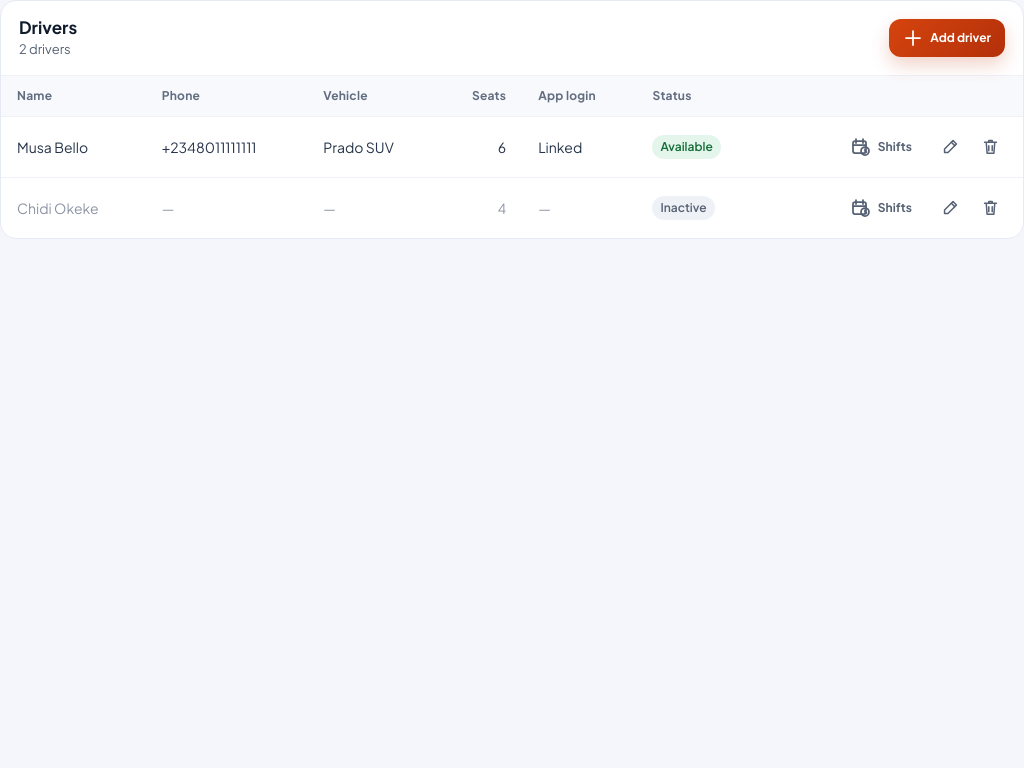
it: DriversTab › deletes a driver after confirmation
Expected: the text "2 drivers" is shown, 19,39 -> 77,59
Click the button named "Delete Chidi Okeke" at [990, 207], box 973,190 -> 1007,224
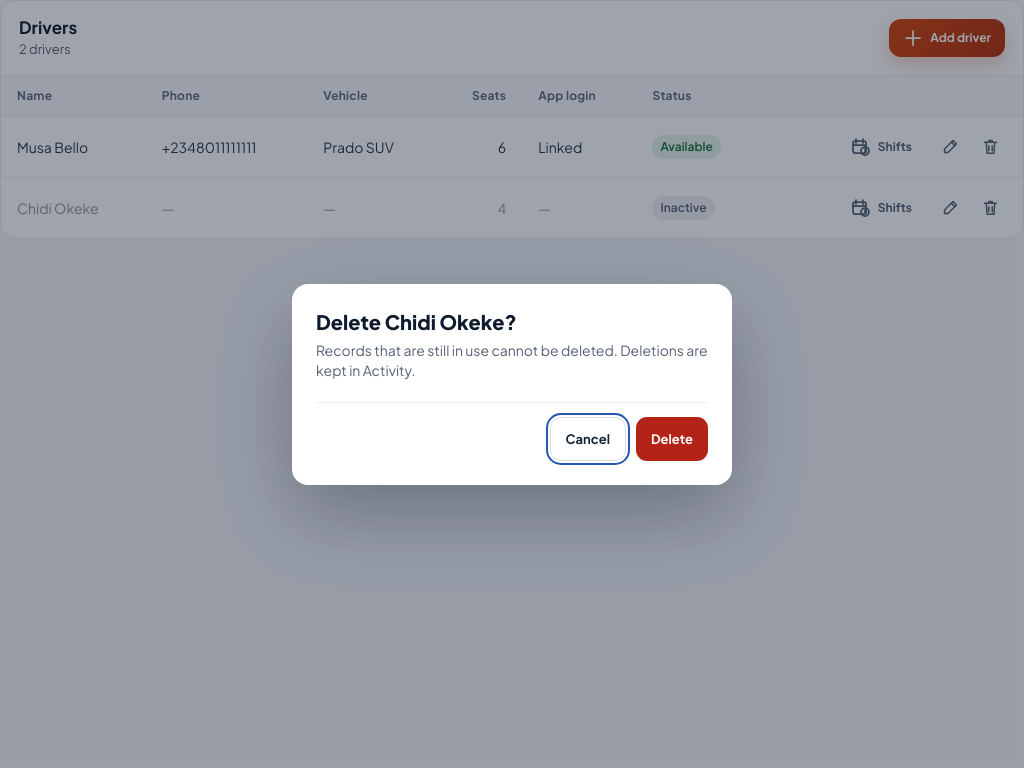
Click the button "Delete" at [672, 438], box 636,416 -> 708,460
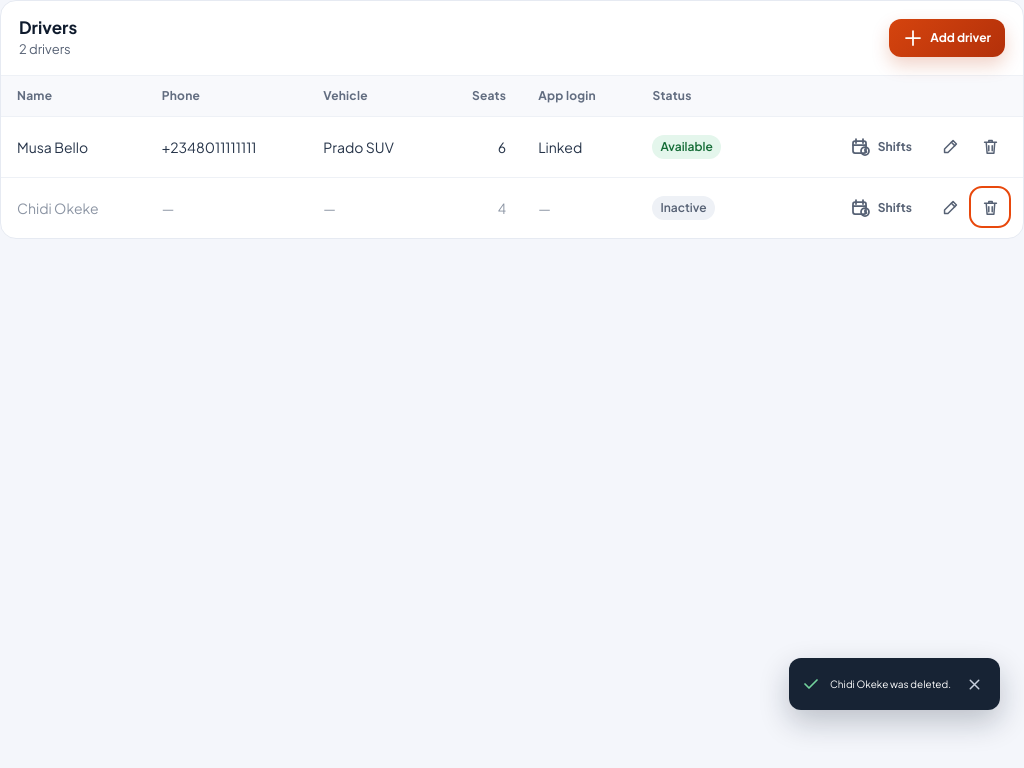
Now the text "Chidi Okeke was deleted." is shown, box 830,674 -> 951,694
